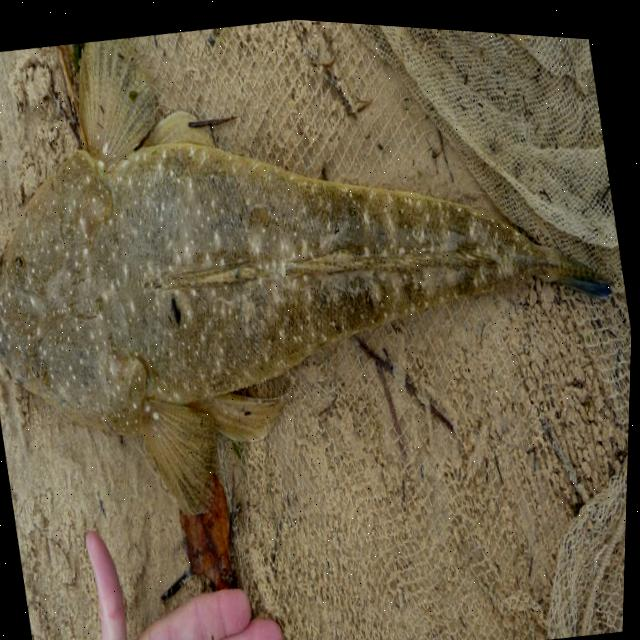Flathead: (0, 0, 640, 583)
